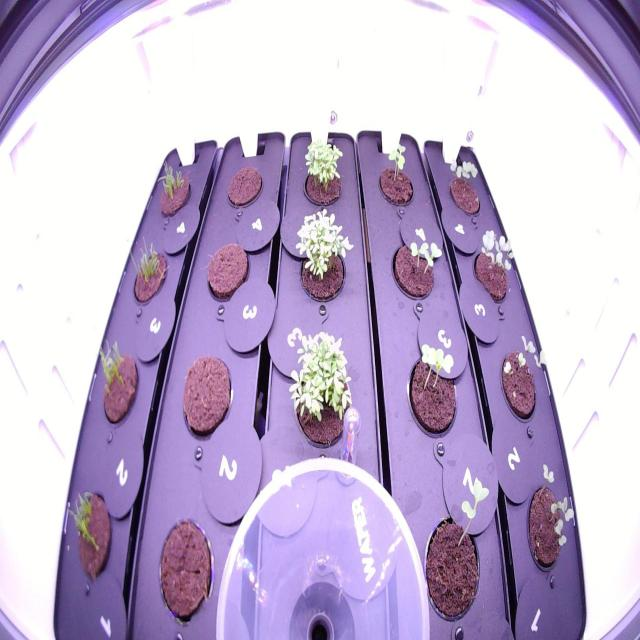germination: (416, 470, 494, 631), (282, 320, 360, 456), (522, 457, 580, 588), (288, 204, 358, 310), (402, 338, 462, 447), (494, 329, 554, 438), (63, 482, 115, 592), (91, 332, 143, 434), (386, 228, 448, 308), (468, 222, 518, 314), (299, 133, 352, 212), (372, 138, 424, 218), (124, 226, 172, 310), (151, 149, 196, 222), (443, 154, 484, 224)
pod: (152, 508, 220, 628), (177, 345, 236, 441), (202, 238, 252, 307), (222, 160, 266, 213)
